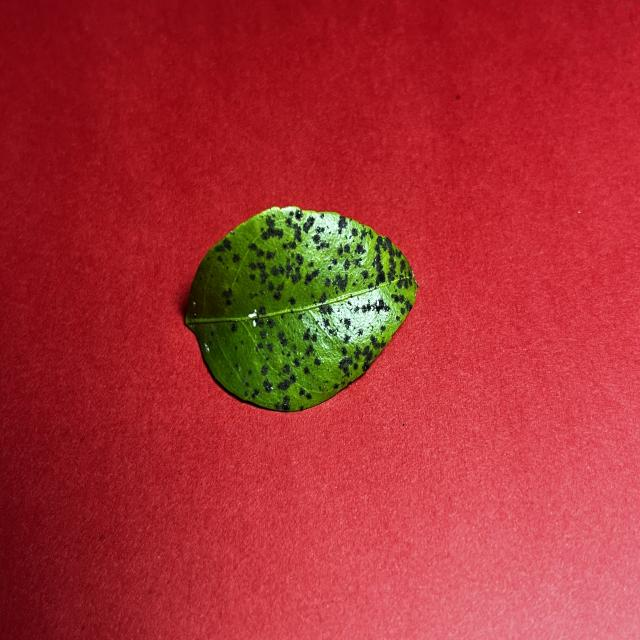sooty_mold: (185, 206, 418, 412)
